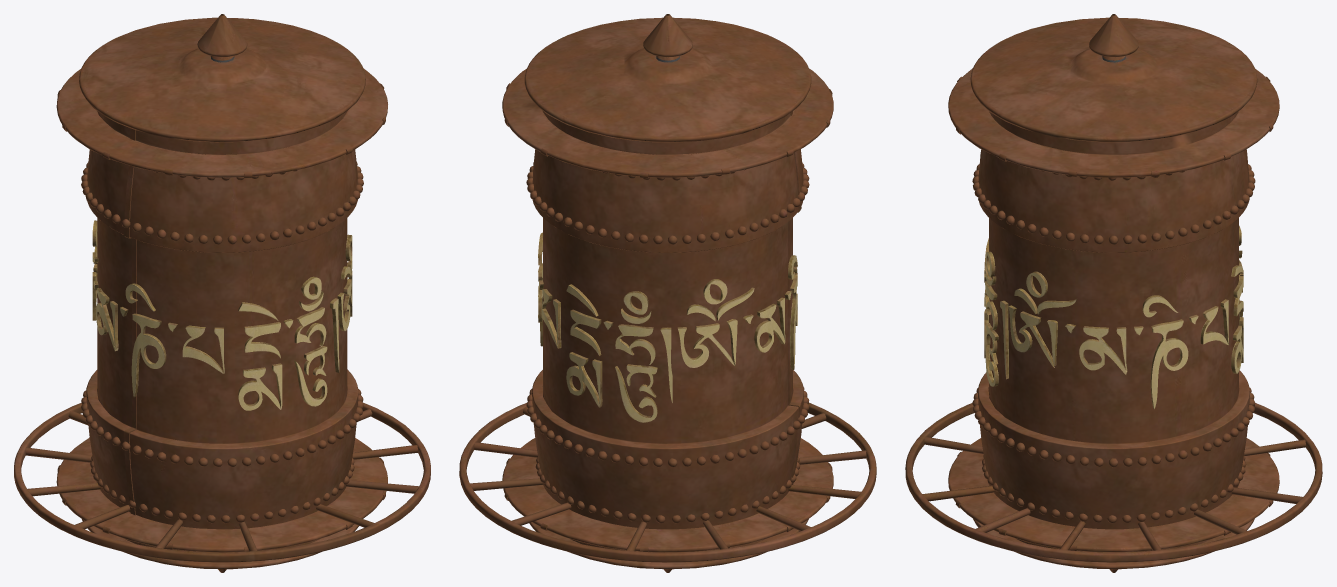
Rendered from tibetan-prayer-wheel-rc.glb.
3 renders of one model, left to right at view 1: azimuth 30°, elevation 25°; view 2: azimuth 150°, elevation 25°; view 3: azimuth 270°, elevation 25°, orthographic.
Parts seen in each view (by area): view 1: drum, Mani Mantra; view 2: drum, Mani Mantra; view 3: drum, Mani Mantra.
Boxes of the visible parts, left/top/right/bottom form: drum: left=14, top=14, right=430, bottom=572; Mani Mantra: left=92, top=220, right=352, bottom=410; drum: left=459, top=14, right=876, bottom=572; Mani Mantra: left=538, top=232, right=797, bottom=422; drum: left=905, top=14, right=1322, bottom=572; Mani Mantra: left=984, top=225, right=1243, bottom=409.
Bounding box in the file's own units: 3.35 × 4.94 × 3.35.
Materials: 1 (1 with a texture image).
